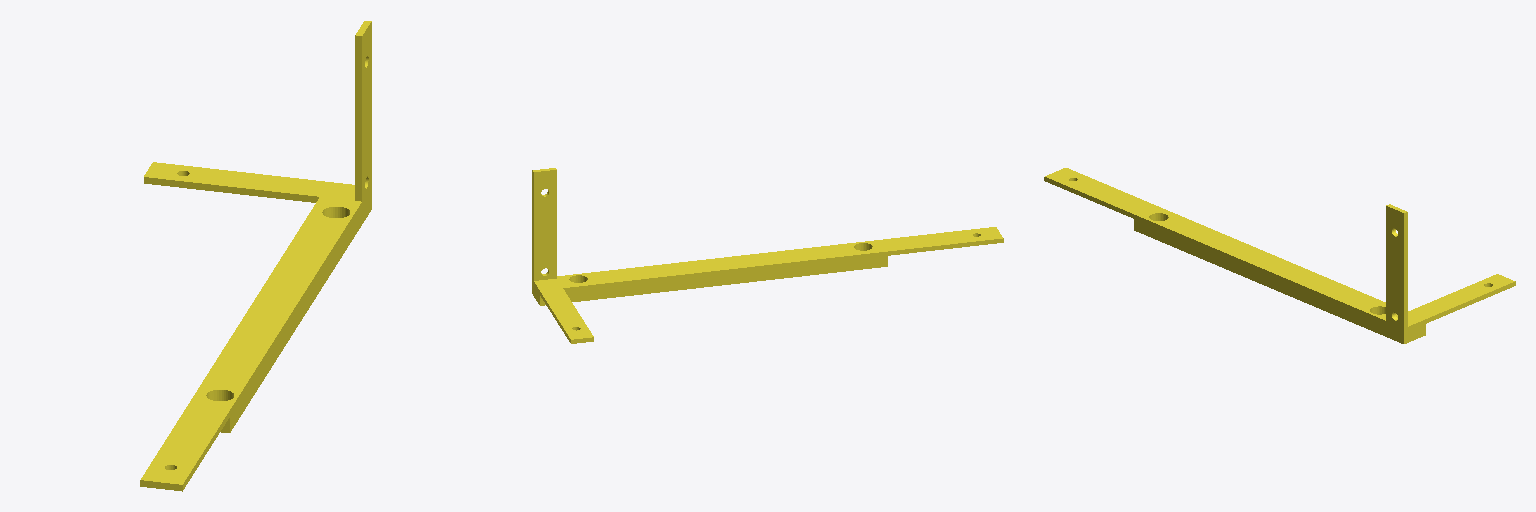
robot.urdf — lbr_iiwa:
<?xml version="1.0" ?>
<robot name="lbr_iiwa" xmlns:xacro="http://www.ros.org/wiki/xacro">
  <!-- Import Rviz colors -->
  <material name="Grey">
    <color rgba="0.2 0.2 0.2 1.0"/>
  </material>
  <material name="Orange">
    <color rgba="1.0 0.423529411765 0.0392156862745 1.0"/>
  </material>
  <material name="Blue">
  <color rgba="1 0.7 0 1.0"/>      
</material>

  <!--Import the lbr iiwa macro -->
  <!--Import Transmissions -->
  <!--Include Utilities -->
  <!--The following macros are adapted from the LWR 4 definitions of the RCPRG - https://github.com/RCPRG-ros-pkg/lwr_robot -->
  <!--Little helper macros to define the inertia matrix needed for links.-->
  <!--Cuboid-->
  <!--Cylinder: length is along the y-axis! -->
  <!--lbr-->
  <link name="base_link" />

  <joint name="base_link_to_chassis" type="fixed">
    <parent link="base_link"/>
    <child link="lbr_iiwa_link_0"/>
    <origin rpy="0 0 3.9270" xyz="0.8839 -0.3889 -0.42"/>
    <!-- RobotFrame rpy="0 0 3.14" xyz="0.32 -0.84 -0.42" -->
  </joint>


  <link name="lbr_iiwa_link_0">
    <visual>
      <origin rpy="0 0 0" xyz="0 0 0"/>
      <geometry>
        <mesh filename="meshes_kuka_iiwa/link_0.stl"/>
      </geometry>
      <material name="Grey"/>
    </visual>
    <collision>
      <origin rpy="0 0 0" xyz="0 0 0"/>
      <geometry>
        <mesh filename="meshes_kuka_iiwa/link_0.stl"/>
      </geometry>
    </collision>
  </link>

  <!-- joint between link_0 and link_1 -->
  <joint name="lbr_iiwa_joint_1" type="revolute">
    <parent link="lbr_iiwa_link_0"/>
    <child link="lbr_iiwa_link_1"/>
    <origin rpy="0 0 0" xyz="0 0 0.1575"/>
    <axis xyz="0 0 1"/>
    <limit effort="300" lower="-2.96705972839" upper="2.96705972839" velocity="10"/>
    <dynamics damping="0.5"/>
  </joint>

  <link name="lbr_iiwa_link_1">
    <inertial>
      <origin rpy="0 0 0" xyz="0 -0.03 0.12"/>
      <mass value="4"/>
      <inertia ixx="0.1" ixy="0" ixz="0" iyy="0.09" iyz="0" izz="0.02"/>
    </inertial>
    <visual>
      <origin rpy="0 0 0" xyz="0 0 0"/>
      <geometry>
        <mesh filename="meshes_kuka_iiwa/link_1.stl"/>
      </geometry>
      <material name="Blue"/>
    </visual>
    <collision>
      <origin rpy="0 0 0" xyz="0 0 0"/>
      <geometry>
        <mesh filename="meshes/link_1.stl"/>
      </geometry>
    </collision>
  </link>

  <!-- joint between link_1 and link_2 -->
  <joint name="lbr_iiwa_joint_2" type="revolute">
    <parent link="lbr_iiwa_link_1"/>
    <child link="lbr_iiwa_link_2"/>
    <origin rpy="1.57079632679 0 3.14159265359" xyz="0 0 0.2025"/>
    <axis xyz="0 0 1"/>
    <limit effort="300" lower="-2.09439510239" upper="2.09439510239" velocity="10"/>
    <dynamics damping="0.5"/>
  </joint>

  <link name="lbr_iiwa_link_2">
    <inertial>
      <origin rpy="0 0 0" xyz="0.0003 0.059 0.042"/>
      <mass value="4"/>
      <inertia ixx="0.05" ixy="0" ixz="0" iyy="0.018" iyz="0" izz="0.044"/>
    </inertial>
    <visual>
      <origin rpy="0 0 0" xyz="0 0 0"/>
      <geometry>
        <mesh filename="meshes_kuka_iiwa/link_2.stl"/>
      </geometry>
      <material name="Blue"/>
    </visual>
    <collision>
      <origin rpy="0 0 0" xyz="0 0 0"/>
      <geometry>
        <mesh filename="meshes/link_2.stl"/>
      </geometry>
    </collision>
  </link>

  <!-- joint between link_2 and link_3 -->
  <joint name="lbr_iiwa_joint_3" type="revolute">
    <parent link="lbr_iiwa_link_2"/>
    <child link="lbr_iiwa_link_3"/>
    <origin rpy="1.57079632679 0 3.14159265359" xyz="0 0.2045 0"/>
    <axis xyz="0 0 1"/>
    <limit effort="300" lower="-2.96705972839" upper="2.96705972839" velocity="10"/>
    <dynamics damping="0.5"/>
  </joint>

  <link name="lbr_iiwa_link_3">
    <inertial>
      <origin rpy="0 0 0" xyz="0 0.03 0.13"/>
      <mass value="3"/>
      <inertia ixx="0.08" ixy="0" ixz="0" iyy="0.075" iyz="0" izz="0.01"/>
    </inertial>
    <visual>
      <origin rpy="0 0 0" xyz="0 0 0"/>
      <geometry>
        <mesh filename="meshes_kuka_iiwa/link_3.stl"/>
      </geometry>
      <material name="Orange"/>
    </visual>
    <collision>
      <origin rpy="0 0 0" xyz="0 0 0"/>
      <geometry>
        <mesh filename="meshes_kuka_iiwa/link_3.stl"/>
      </geometry>
    </collision>
  </link>

  <!-- joint between link_3 and link_4 -->
  <joint name="lbr_iiwa_joint_4" type="revolute">
    <parent link="lbr_iiwa_link_3"/>
    <child link="lbr_iiwa_link_4"/>
    <origin rpy="1.57079632679 0 0" xyz="0 0 0.2155"/>
    <axis xyz="0 0 1"/>
    <limit effort="300" lower="-2.09439510239" upper="2.09439510239" velocity="10"/>
    <dynamics damping="0.5"/>
  </joint>

  <link name="lbr_iiwa_link_4">
    <inertial>
      <origin rpy="0 0 0" xyz="0 0.067 0.034"/>
      <mass value="2.7"/>
      <inertia ixx="0.03" ixy="0" ixz="0" iyy="0.01" iyz="0" izz="0.029"/>
    </inertial>
    <visual>
      <origin rpy="0 0 0" xyz="0 0 0"/>
      <geometry>
        <mesh filename="meshes_kuka_iiwa/link_4.stl"/>
      </geometry>
      <material name="Blue"/>
    </visual>
    <collision>
      <origin rpy="0 0 0" xyz="0 0 0"/>
      <geometry>
        <mesh filename="meshes_kuka_iiwa/link_4.stl"/>
      </geometry>
    </collision>
  </link>

  <!-- joint between link_4 and link_5 -->
  <joint name="lbr_iiwa_joint_5" type="revolute">
    <parent link="lbr_iiwa_link_4"/>
    <child link="lbr_iiwa_link_5"/>
    <origin rpy="-1.57079632679 3.14159265359 0" xyz="0 0.1845 0"/>
    <axis xyz="0 0 1"/>
    <limit effort="300" lower="-2.96705972839" upper="2.96705972839" velocity="10"/>
    <dynamics damping="0.5"/>
  </joint>

  <link name="lbr_iiwa_link_5">
    <inertial>
      <origin rpy="0 0 0" xyz="0.0001 0.021 0.076"/>
      <mass value="1.7"/>
      <inertia ixx="0.02" ixy="0" ixz="0" iyy="0.018" iyz="0" izz="0.005"/>
    </inertial>
    <visual>
      <origin rpy="0 0 0" xyz="0 0 0"/>
      <geometry>
        <mesh filename="meshes_kuka_iiwa/link_5.stl"/>
      </geometry>
      <material name="Blue"/>
    </visual>
    <collision>
      <origin rpy="0 0 0" xyz="0 0 0"/>
      <geometry>
        <mesh filename="meshes_kuka_iiwa/link_5.stl"/>
      </geometry>
    </collision>
  </link>

  <!-- joint between link_5 and link_6 -->
  <joint name="lbr_iiwa_joint_6" type="revolute">
    <parent link="lbr_iiwa_link_5"/>
    <child link="lbr_iiwa_link_6"/>
    <origin rpy="1.57079632679 0 0" xyz="0 0 0.2155"/>
    <axis xyz="0 0 1"/>
    <limit effort="300" lower="-1.79439510239" upper="1.79439510239" velocity="10"/>
    <dynamics damping="0.5"/>
  </joint>

  <link name="lbr_iiwa_link_6">
    <inertial>
      <origin rpy="0 0 0" xyz="0 0.0006 0.0004"/>
      <mass value="1.8"/>
      <inertia ixx="0.005" ixy="0" ixz="0" iyy="0.0036" iyz="0" izz="0.0047"/>
    </inertial>
    <visual>
      <origin rpy="0 0 0" xyz="0 0 0"/>
      <geometry>
        <mesh filename="meshes_kuka_iiwa/link_6.stl"/>
      </geometry>
      <material name="Orange"/>
    </visual>
    <collision>
      <origin rpy="0 0 0" xyz="0 0 0"/>
      <geometry>
        <mesh filename="meshes_kuka_iiwa/link_6.stl"/>
      </geometry>
    </collision>
  </link>

  <!-- joint between link_6 and link_7 -->
  <joint name="lbr_iiwa_joint_7" type="revolute">
    <parent link="lbr_iiwa_link_6"/>
    <child link="lbr_iiwa_link_7"/>
    <origin rpy="-1.57079632679 3.14159265359 0" xyz="0 0.081 0"/>
    <axis xyz="0 0 1"/>
    <limit effort="300" lower="-3.05432619099" upper="3.05432619099" velocity="10"/>
    <dynamics damping="0.5"/>
  </joint>

  <link name="lbr_iiwa_link_7">
    <inertial>
      <origin rpy="0 0 0" xyz="0 0 0.02"/>
      <mass value="0.3"/>
      <inertia ixx="0.001" ixy="0" ixz="0" iyy="0.001" iyz="0" izz="0.001"/>
    </inertial>
    <visual>
      <origin rpy="0 0 0" xyz="0 0 0"/>
      <geometry>
        <mesh filename="meshes_kuka_iiwa/link_7.stl"/>
      </geometry>
      <material name="Grey"/>
    </visual>
    <collision>
      <origin rpy="0 0 0" xyz="0 0 0"/>
      <geometry>
        <mesh filename="meshes_kuka_iiwa/link_7.stl"/>
      </geometry>
    </collision>
  </link>

  
  <!-- Add flange tip fixed joint where the magnet based is attached to. -->
  <joint name="flange_tip" type="fixed">
    <parent link="lbr_iiwa_link_7" />
    <child link = "magnet_base" />
    <origin xyz="0.00 0.00 0.045" rpy="0 0 0" />
  </joint>

  <!-- Add base of the magnet case -->
  <link name="magnet_base">
    <visual>
      <origin xyz="0 0 0.0" rpy="0 0 3.1415926535"/>
      <geometry>
        <mesh filename="meshes_kuka_iiwa/magnet_holder_spacer.STL"/>
        <!--  <cylinder length="0.1275" radius="0.020"/> -->
      </geometry>
      <material name="White"/>
    </visual>
    <collision>
      <origin xyz="0 0 0" rpy="0 0 3.1415926535"/>
      <geometry>
        <mesh filename="meshes_kuka_iiwa/magnet_holder_spacer.STL"/> -->
        <!--  <cylinder length="0.1275" radius="0.020"/> -->
      </geometry>
      <material name="White"/>
    </collision>
    <inertial>
      <mass value="1"/>
      <inertia ixx="0" ixy="0" ixz="0" iyy="0" iyz="0" izz="0"/>
    </inertial> 
  </link>

	<!-- Add a dummy joint at the center of magnet -->
  <joint name="magnet_center" type="fixed">
    <parent link="magnet_base" />
    <child link = "magnet_center_link" /> <!-- this is center of magnet! -->
    <origin xyz="0.00 0.00 0.0818" rpy="0 1.57 0" />
  </joint>

  <link name="magnet_center_link">
    <inertial>
      <mass value="0.01"/>
      <inertia ixx="1" ixy="0" ixz="0" iyy="1" iyz="0" izz="1"/>
    </inertial>
  </link>

	<!-- Adding Optical Tracker Tool -->
  <joint name="optitracktool" type="fixed">
    <parent link="magnet_base" />
    <child link = "optitracktool_link" />
    <origin xyz="-0.07547 -0.06187 0.0525" rpy="0 0 0" />
  </joint>

  <!-- Add base of the magnet case -->
  <link name="optitracktool_link">
    <visual>
      <origin xyz="0 0 0.0" rpy="0 0 0"/>
      <geometry>
        <mesh filename="meshes_kuka_iiwa/EPM_optitrack_v3.STL"/>
        <!--  <cylinder length="0.1275" radius="0.020"/> -->
      </geometry>
      <material name="White"/>
    </visual>
    <collision>
      <origin xyz="0 0 0" rpy="0 0 0"/>
      <geometry>
        <mesh filename="meshes_kuka_iiwa/EPM_optitrack_v3.STL"/> -->
        <!--  <cylinder length="0.1275" radius="0.020"/> -->
      </geometry>
      <material name="White"/>
    </collision>
    <inertial>
      <mass value="1"/>
      <inertia ixx="0" ixy="0" ixz="0" iyy="0" iyz="0" izz="0"/>
    </inertial> 
  </link>
	
  


</robot>

--- What the picture shows (computed from the rendered views, not written in the file) ---
3 views of the same robot in one strip: view 1: azimuth 30°, elevation 25°; view 2: azimuth 150°, elevation 25°; view 3: azimuth 270°, elevation 25° (orthographic).
Robot: lbr_iiwa — 12 links, 11 joints (7 revolute, 4 fixed); root link base_link; default pose: all joints at 0.
Visible links, largest first — view 1: optitracktool_link; view 2: optitracktool_link; view 3: optitracktool_link.
Link boxes in pixels (x1=…): optitracktool_link: x1=140, y1=21, x2=371, y2=491; optitracktool_link: x1=532, y1=168, x2=1003, y2=343; optitracktool_link: x1=1044, y1=168, x2=1515, y2=343.
Size in the robot's own frame: 0.1499 by 0.1853 by 0.057 metres.
1 mesh visuals loaded from 10 distinct referenced files (1 binary STL); not drawn: 9 (reference not matched to a file when rendering).